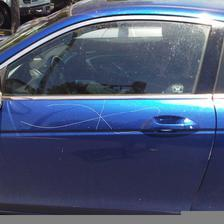door_scratch: (0, 73, 209, 166)
